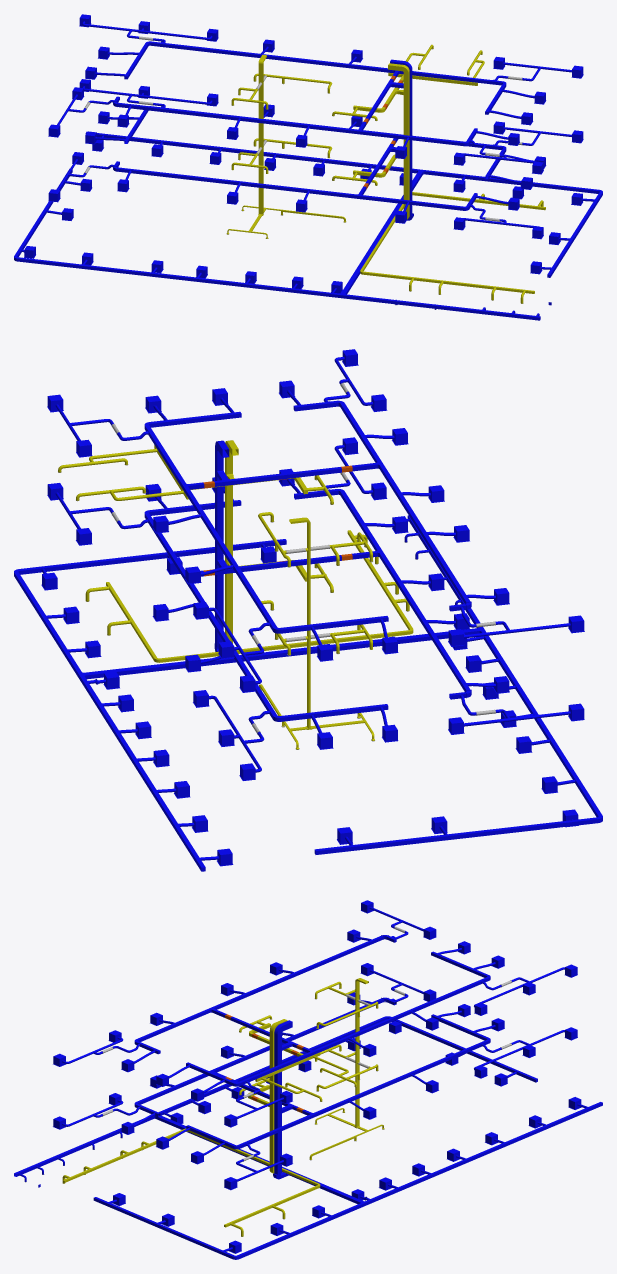
3 views of the same model, one above another, from view 1: azimuth 30°, elevation 25°; view 2: azimuth 150°, elevation 25°; view 3: azimuth 270°, elevation 25° (orthographic). The views are drawn at different scales.
Visible parts, largest first — view 1: 1xcI3n9NLCzgLt5edbnYTc, 1Wf_Z9ah52ZRKuF8wFiSMt, 1_4iIms_n3uRXGvNhVHvCt, 1vad3qwmfAi81tXCFGYJoX, 24KYLmDjHE39Uig0jV5C6m; view 2: 1vad3qwmfAi81tXCFGYJoX, 0mlF_9kTL0AhtwZFQEFgCc, 2KBKwqlkbEiRkTzejpoLgT, 2udtEt$GX0eAK$9PuOVUf5, 2bs9Q8uUXF3hwbV_$5xWPB, 1SBgm1$o1DSw7F$9$3O8Sr; view 3: no part large enough to name.
Boxes of the visible parts, left/top/right/bottom form: 1xcI3n9NLCzgLt5edbnYTc: left=130, top=104, right=239, bottom=120; 1Wf_Z9ah52ZRKuF8wFiSMt: left=130, top=169, right=240, bottom=185; 1_4iIms_n3uRXGvNhVHvCt: left=160, top=42, right=260, bottom=57; 1vad3qwmfAi81tXCFGYJoX: left=341, top=217, right=393, bottom=294; 24KYLmDjHE39Uig0jV5C6m: left=260, top=54, right=348, bottom=67; 1vad3qwmfAi81tXCFGYJoX: left=233, top=628, right=477, bottom=662; 0mlF_9kTL0AhtwZFQEFgCc: left=447, top=820, right=574, bottom=839; 2KBKwqlkbEiRkTzejpoLgT: left=42, top=552, right=168, bottom=571; 2udtEt$GX0eAK$9PuOVUf5: left=87, top=658, right=217, bottom=678; 2bs9Q8uUXF3hwbV_$5xWPB: left=242, top=630, right=409, bottom=652; 1SBgm1$o1DSw7F$9$3O8Sr: left=233, top=467, right=341, bottom=484.
Bounding box in the file's own units: 36.25 × 10.92 × 37.46.
